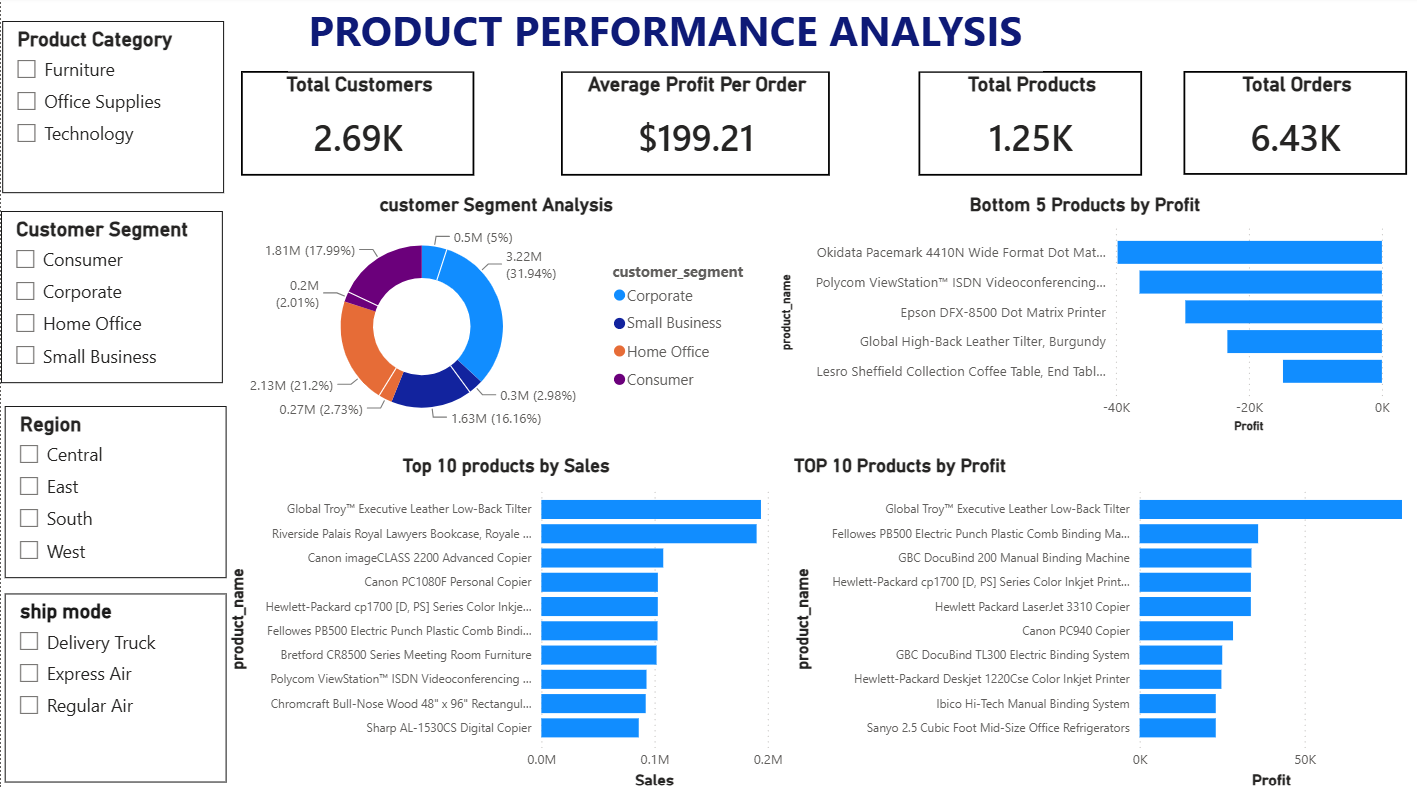

The dashboard page shown, as its layout file describes it:
{"tool":"powerbi","page":{"name":"Page 2","canvas":[1280,720],"ordinal":1},"visuals":[{"type":"donutChart","title":"customer Segment Analysis","fields":{"Category":["samplesuperstore_cleaned.customer_segment"],"Y":["Sum(samplesuperstore_cleaned.profit)","Sum(samplesuperstore_cleaned.sales)"]},"box":[203.1,177.5,487.4,221.2],"z":0},{"type":"barChart","title":"Top 10 products by Sales ","fields":{"Category":["samplesuperstore_cleaned.product_name"],"Y":["Sum(samplesuperstore_cleaned.sales)"]},"box":[200.5,413.3,509.9,306.9],"z":1000},{"type":"barChart","title":"Bottom 5 Products by  Profit","fields":{"Category":["samplesuperstore_cleaned.product_name"],"Y":["Sum(samplesuperstore_cleaned.profit)"]},"box":[698.1,177.5,559.7,221.2],"z":2000},{"type":"barChart","title":"TOP 10  Products by Profit","fields":{"Y":["Sum(samplesuperstore_cleaned.profit)"],"Category":["samplesuperstore_cleaned.product_name"]},"box":[710.5,413.3,569.8,306.9],"z":3000},{"type":"slicer","fields":{"Values":["samplesuperstore_cleaned.product_category"]},"box":[1.5,22.6,200.1,155],"z":4000},{"type":"slicer","fields":{"Values":["samplesuperstore_cleaned.region"]},"box":[3,370.1,200.1,155],"z":5000},{"type":"slicer","title":"Ship Mode","fields":{"Values":["samplesuperstore_cleaned.ship_mode"]},"box":[3,538.6,200.1,170],"z":6000},{"type":"slicer","fields":{"Values":["samplesuperstore_cleaned.customer_segment"]},"box":[0,194.1,200.1,155],"z":7000},{"type":"cardVisual","title":"Total Customers","fields":{"Data":["samplesuperstore_cleaned.TotalCustomers"]},"box":[216.6,67.7,210.6,94.8],"z":8000},{"type":"cardVisual","title":"Total Products","fields":{"Data":["samplesuperstore_cleaned.Total Products"]},"box":[827.5,67.7,201.6,94.8],"z":9000},{"type":"cardVisual","title":"Total Orders","fields":{"Data":["samplesuperstore_cleaned.Total Orders"]},"box":[1066.7,67.7,201.6,93.3],"z":10000},{"type":"cardVisual","title":"Average Profit Per Order","fields":{"Data":["samplesuperstore_cleaned.Average Profit per Order"]},"box":[505.5,67.7,242.2,94.8],"z":11000},{"type":"textbox","box":[258.8,0,680,67.7],"z":12000}]}

Visuals, with their boxes in screenshot pixels (x1, y1, x2, y2), scaled from the page's 1280x720 canvas onto the 1417x787 screenshot:
"customer Segment Analysis" donutChart: <region>225, 194, 764, 436</region>
"Top 10 products by Sales " barChart: <region>222, 452, 786, 786</region>
"Bottom 5 Products by  Profit" barChart: <region>773, 194, 1392, 436</region>
"TOP 10  Products by Profit" barChart: <region>787, 452, 1416, 786</region>
slicer - samplesuperstore_cleaned.product_category: <region>2, 25, 223, 194</region>
slicer - samplesuperstore_cleaned.region: <region>3, 405, 225, 574</region>
"Ship Mode" slicer: <region>3, 589, 225, 775</region>
slicer - samplesuperstore_cleaned.customer_segment: <region>0, 212, 222, 382</region>
"Total Customers" cardVisual: <region>240, 74, 473, 178</region>
"Total Products" cardVisual: <region>916, 74, 1139, 178</region>
"Total Orders" cardVisual: <region>1181, 74, 1404, 176</region>
"Average Profit Per Order" cardVisual: <region>560, 74, 828, 178</region>
textbox: <region>286, 0, 1039, 74</region>
